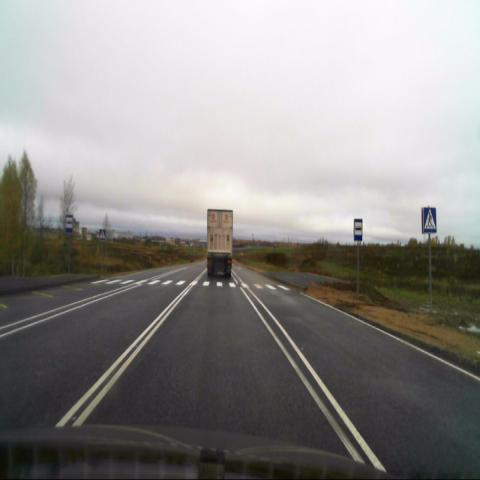5_16: (354, 219, 362, 241), (66, 214, 72, 233)
5_19_1: (423, 207, 437, 233)
